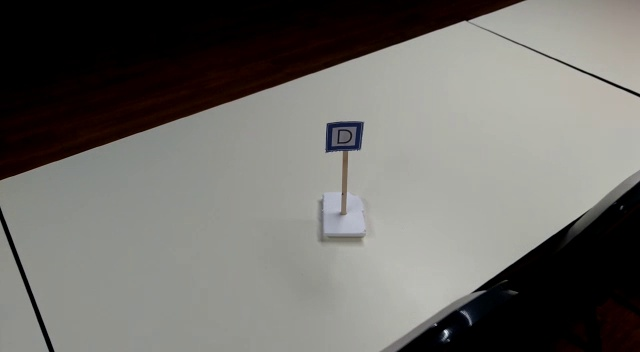durak: (324, 121, 364, 153)
